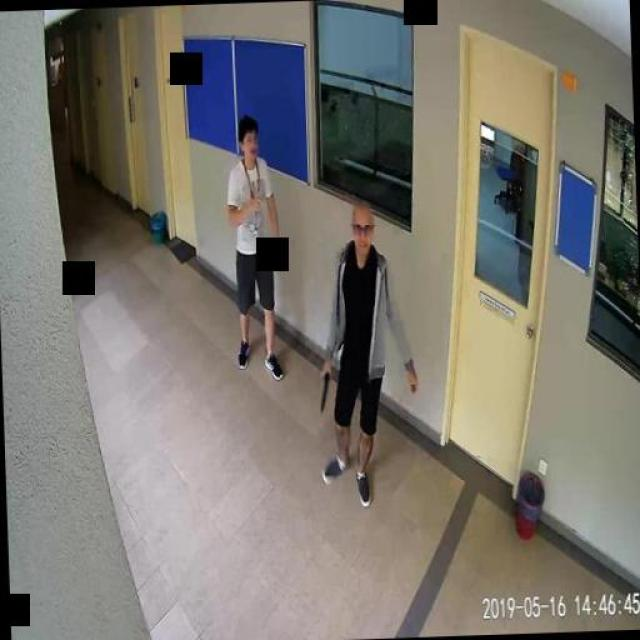gun: (318, 368, 330, 410)
